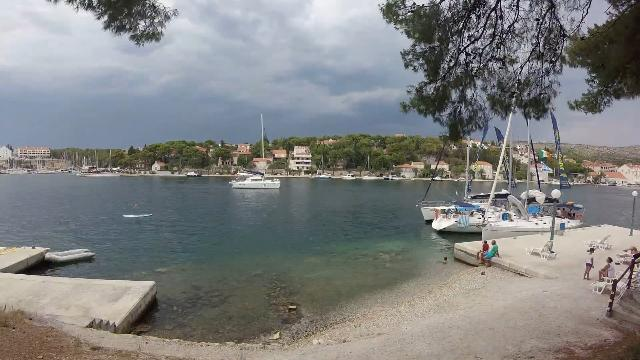Freighter: (73, 162, 125, 180)
Sailboat: (224, 167, 284, 191)
